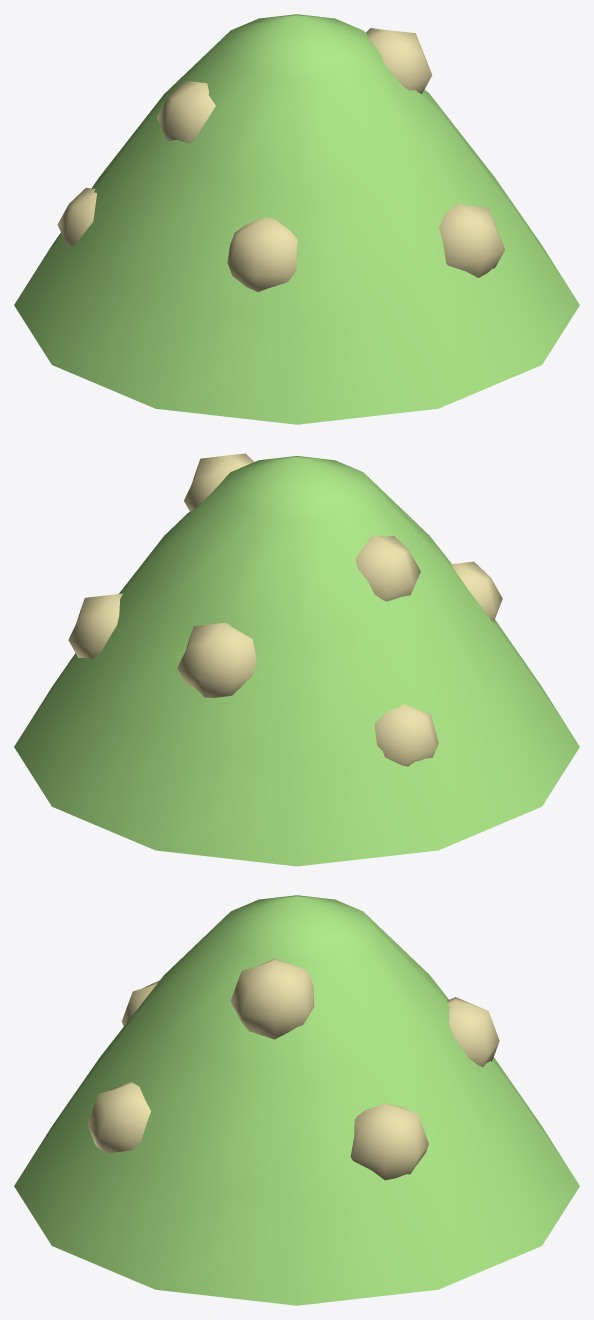
Rendered from mushroom_crushed 1.fbx.
3 views of the same model, one above another, from view 1: azimuth 30°, elevation 25°; view 2: azimuth 150°, elevation 25°; view 3: azimuth 270°, elevation 25° (orthographic).
Parts seen in each view (by area): view 1: mushroom_crushed; view 2: mushroom_crushed; view 3: mushroom_crushed.
Part boxes in pixels (left/top/right/bottom): mushroom_crushed: left=14, top=14, right=579, bottom=424; mushroom_crushed: left=14, top=453, right=579, bottom=866; mushroom_crushed: left=14, top=895, right=579, bottom=1305.
Bounding box in the file's own units: 1.26 × 0.7084 × 1.26.
